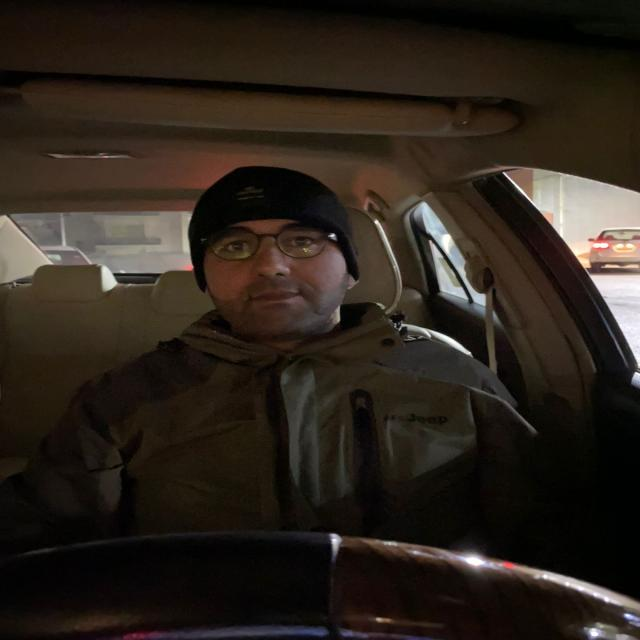person: (189, 186, 358, 324)
